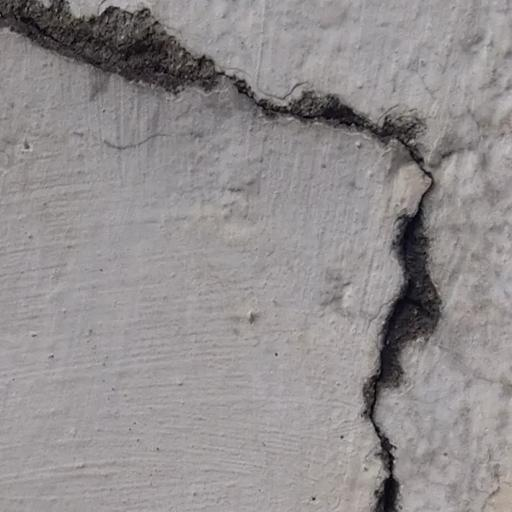major_crack: (11, 0, 444, 169), (349, 156, 473, 512)
